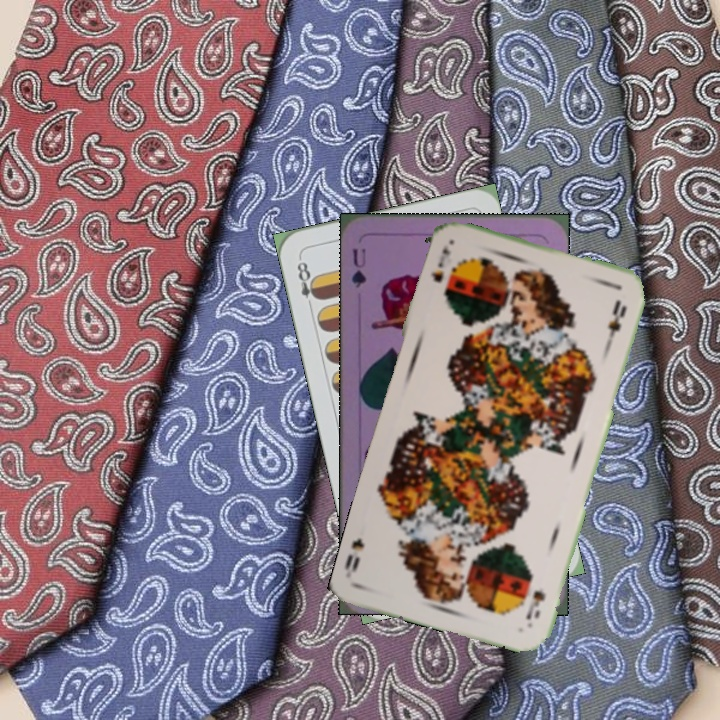E8: (293, 253, 322, 312)
GU: (347, 244, 369, 292)
SO: (426, 243, 453, 285), (522, 585, 548, 622)
